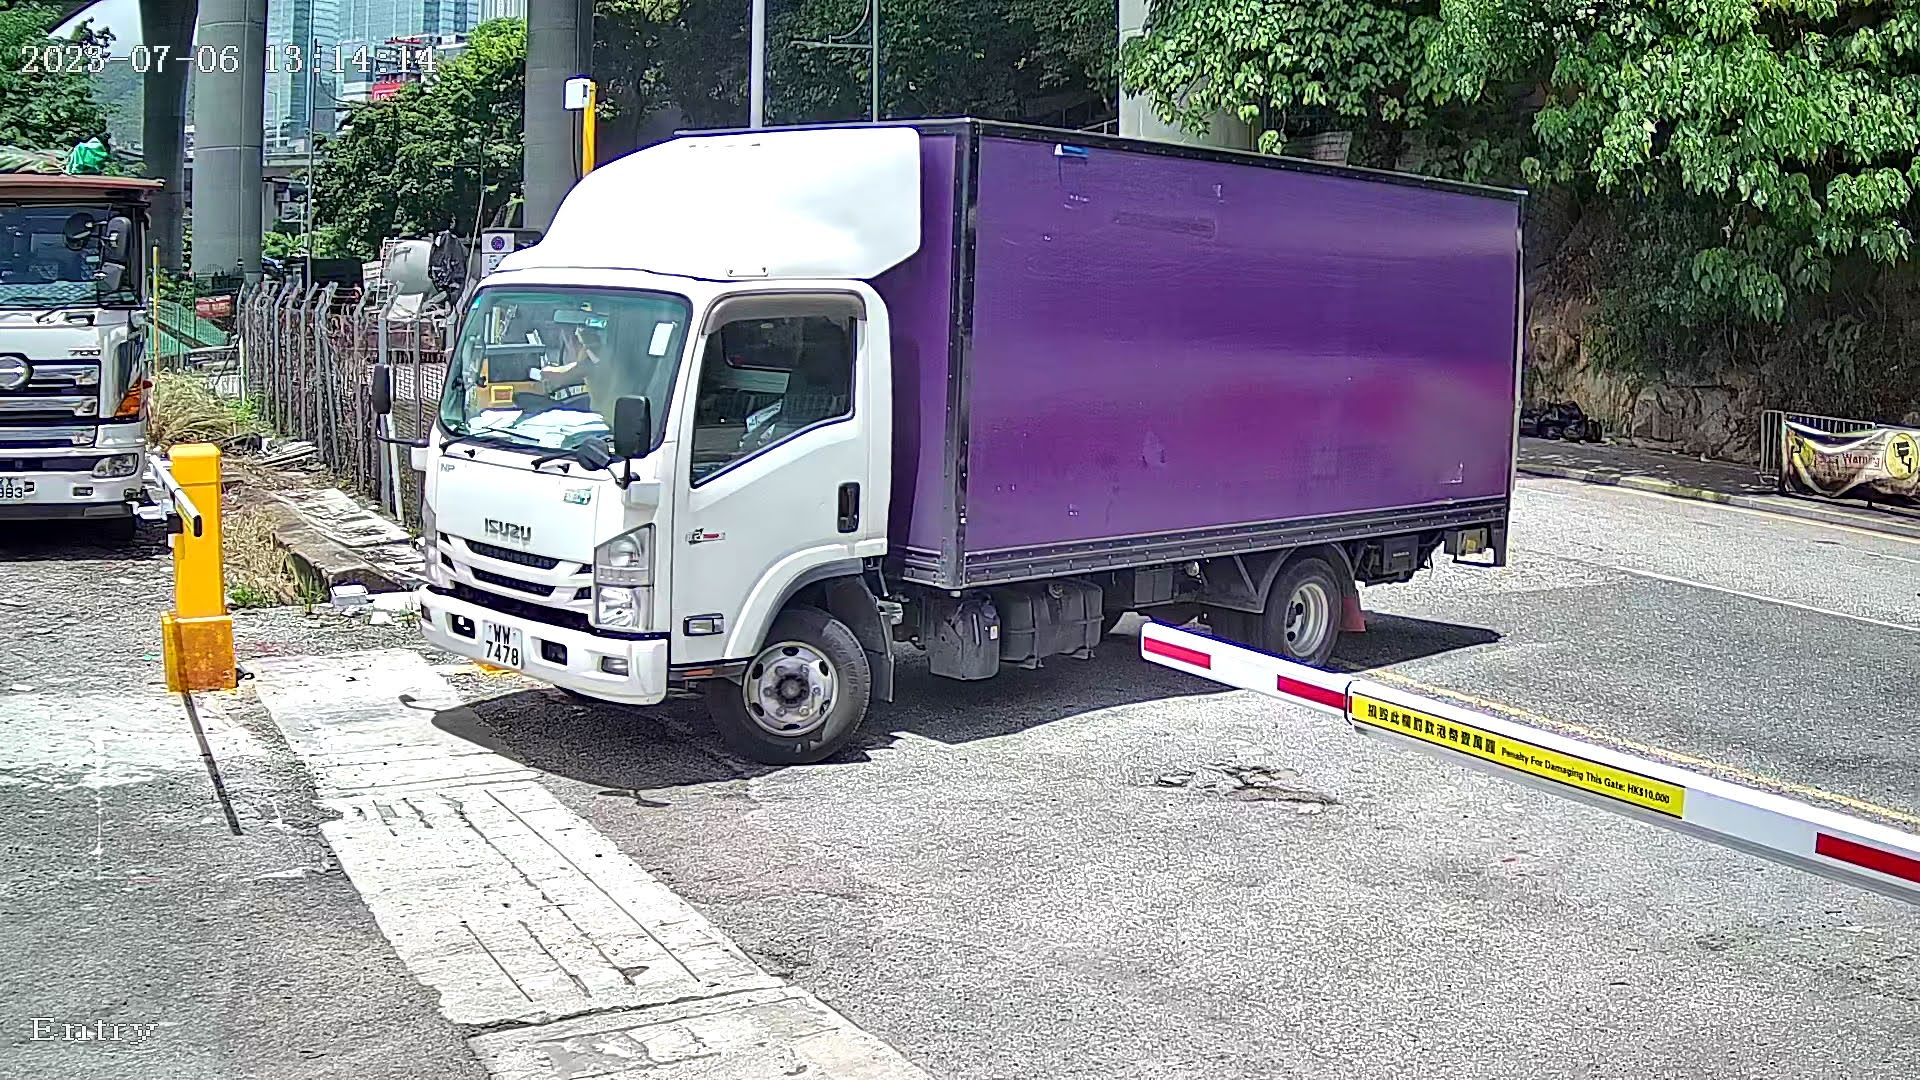truck_small: (363, 94, 1590, 843)
